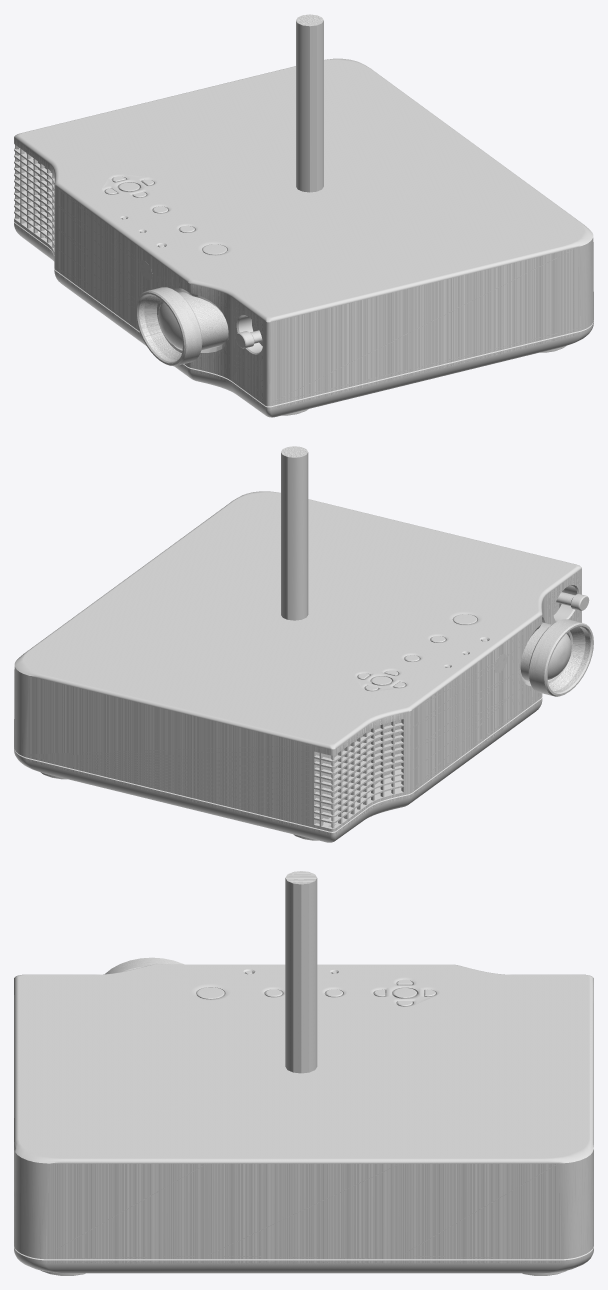
File: Projection.FBX
3 renders of one model, top to bottom at view 1: azimuth 30°, elevation 25°; view 2: azimuth 150°, elevation 25°; view 3: azimuth 270°, elevation 25°, orthographic. The views are drawn at different scales.
Visible parts, largest first — view 1: Projection; view 2: Projection; view 3: Projection.
Part boxes in pixels (box(x1,y1,x2,y2)): Projection: box(14, 14, 593, 417); Projection: box(14, 446, 593, 842); Projection: box(14, 871, 593, 1275).
Size of the model in its own units: 15.85 by 10.86 by 18.2.
Materials: 1 (1 with a texture image).
